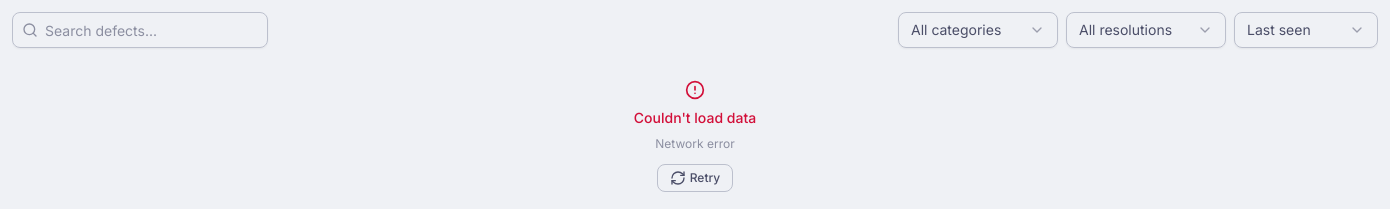
DefectList › shows the error state and retries into the empty state
Expected: the text "Couldn't load data" is shown, [634,108,756,128]
Click the button "Retry": (695,178) [657,164,733,192]
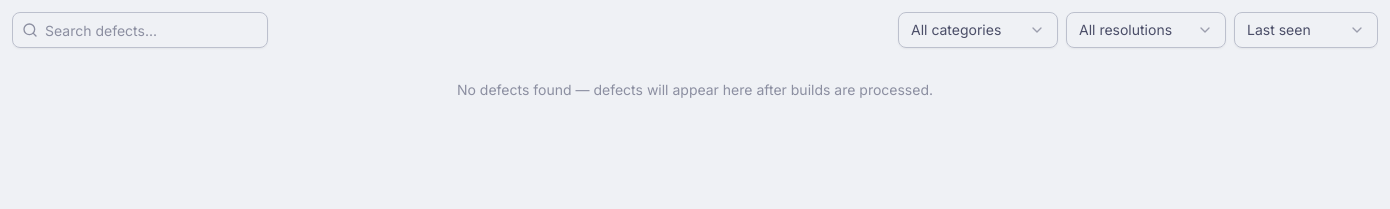
Result: the text "No defects found" is shown at [457,81,933,98]
